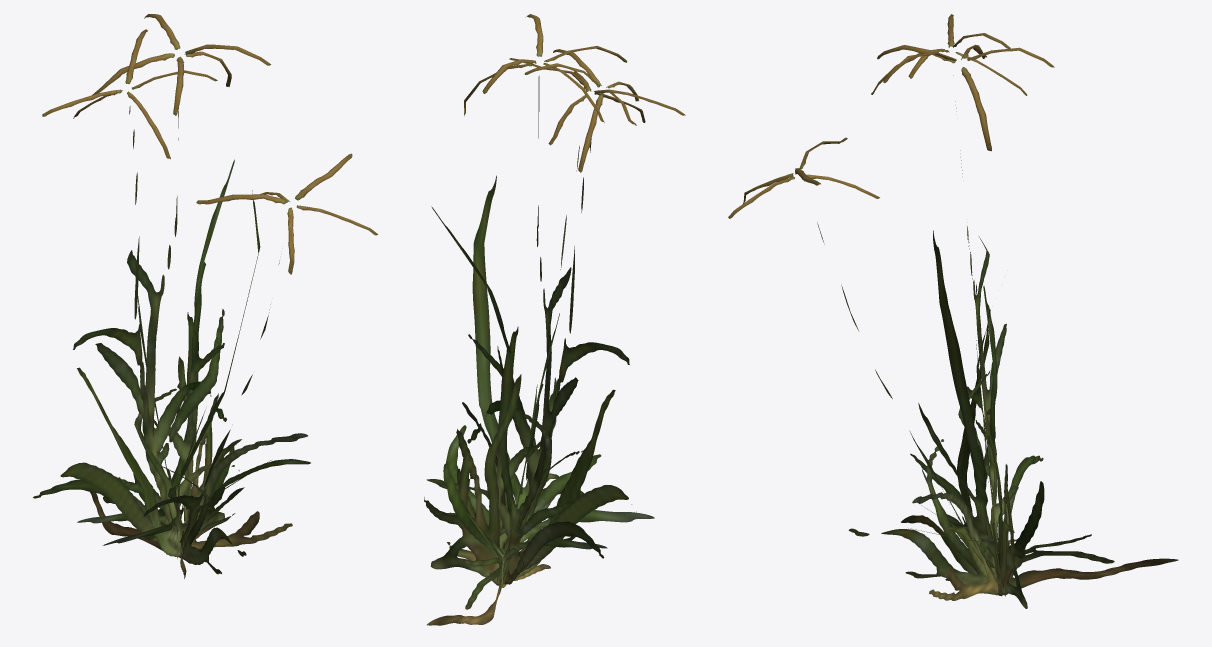
Rendered from grass_sprigs.glb.
3 views of the same model, side by side, from view 1: azimuth 30°, elevation 25°; view 2: azimuth 150°, elevation 25°; view 3: azimuth 270°, elevation 25° (orthographic).
Visible parts, largest first — view 1: grass_bermuda_01_seedling_d, grass_bermuda_01_seedling_a, grass_bermuda_01_medium_c, grass_bermuda_01_medium_e, grass_bermuda_01_medium_f; view 2: grass_bermuda_01_seedling_a, grass_bermuda_01_medium_c, grass_bermuda_01_seedling_d, grass_bermuda_01_medium_e, grass_bermuda_01_medium_f; view 3: grass_bermuda_01_medium_c, grass_bermuda_01_seedling_d, grass_bermuda_01_seedling_a, grass_bermuda_01_medium_f, grass_bermuda_01_medium_e.
Boxes of the visible parts, box(x1,y1,x2,y2) form: grass_bermuda_01_seedling_d: box(33, 14, 377, 549); grass_bermuda_01_seedling_a: box(42, 29, 260, 558); grass_bermuda_01_medium_c: box(77, 356, 246, 574); grass_bermuda_01_medium_e: box(77, 312, 310, 578); grass_bermuda_01_medium_f: box(131, 159, 241, 546); grass_bermuda_01_seedling_a: box(443, 49, 685, 587); grass_bermuda_01_medium_c: box(424, 374, 615, 625); grass_bermuda_01_seedling_d: box(462, 14, 645, 584); grass_bermuda_01_medium_e: box(446, 326, 607, 582); grass_bermuda_01_medium_f: box(426, 206, 559, 584); grass_bermuda_01_medium_c: box(848, 323, 1178, 608); grass_bermuda_01_seedling_d: box(728, 44, 1054, 600); grass_bermuda_01_seedling_a: box(871, 14, 1044, 596); grass_bermuda_01_medium_f: box(943, 286, 1025, 592); grass_bermuda_01_medium_e: box(901, 340, 1005, 596).
Bounding box in the file's own units: 0.077 × 0.1589 × 0.1182.
Materials: 1 (1 with a texture image).
